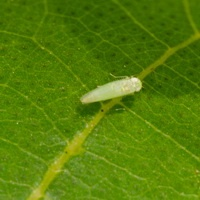insect: (80, 77, 141, 102)
